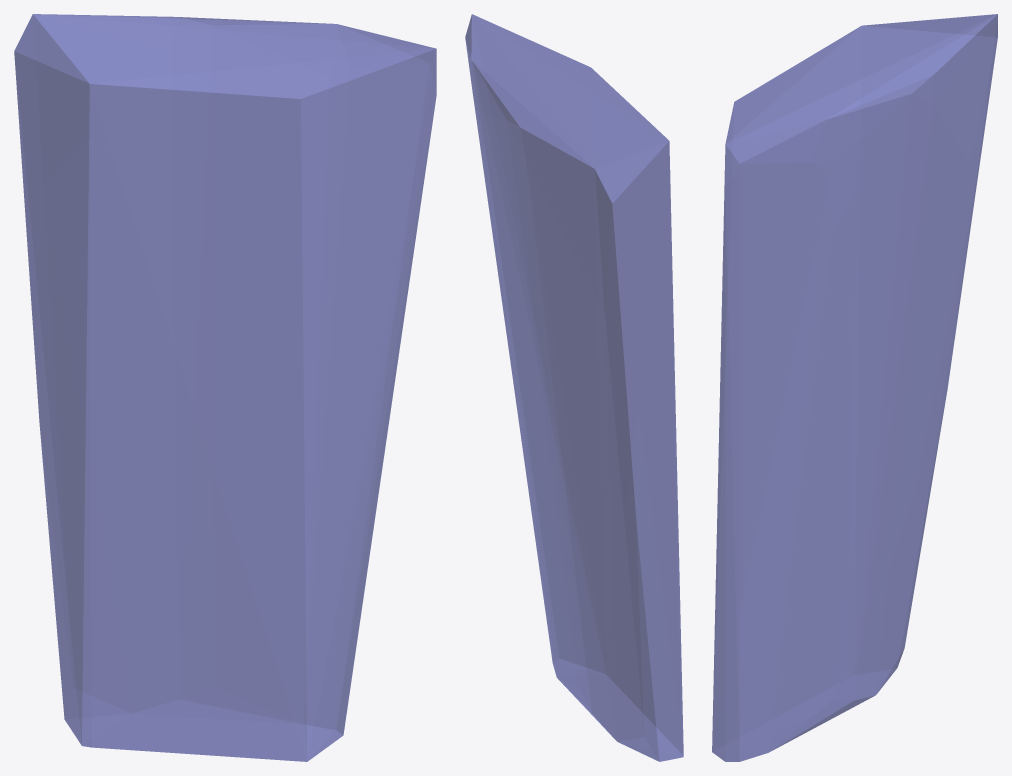
The picture shows the model from 3 angles, left to right: view 1: azimuth 30°, elevation 25°; view 2: azimuth 150°, elevation 25°; view 3: azimuth 270°, elevation 25°; orthographic projection. The views are drawn at different scales.
Parts seen in each view (by area): view 1: Shape_IndexedFaceSet.028_Shape_IndexedFaceSet.10853; view 2: Shape_IndexedFaceSet.028_Shape_IndexedFaceSet.10853; view 3: Shape_IndexedFaceSet.028_Shape_IndexedFaceSet.10853.
Part boxes in pixels (x1,y1,x2,y2): Shape_IndexedFaceSet.028_Shape_IndexedFaceSet.10853: (14, 14, 436, 761); Shape_IndexedFaceSet.028_Shape_IndexedFaceSet.10853: (465, 14, 683, 761); Shape_IndexedFaceSet.028_Shape_IndexedFaceSet.10853: (712, 14, 997, 761).
Size of the model in its own units: 0.4437 by 0.9861 by 0.379.
